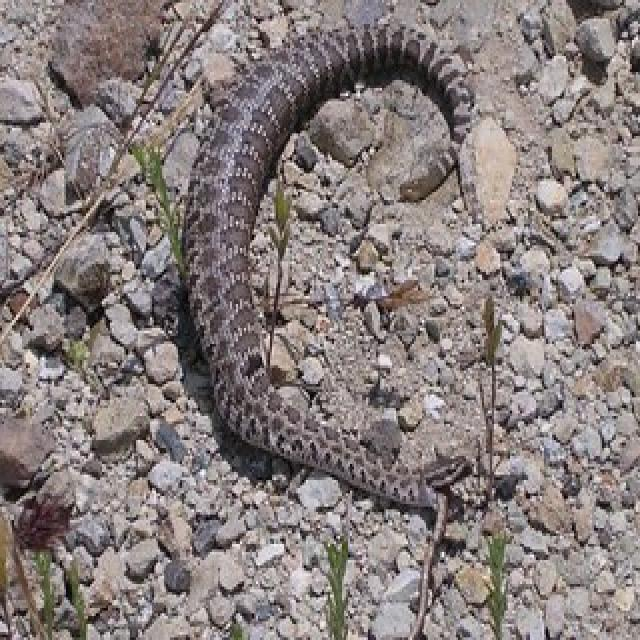snake: (178, 13, 478, 512)
